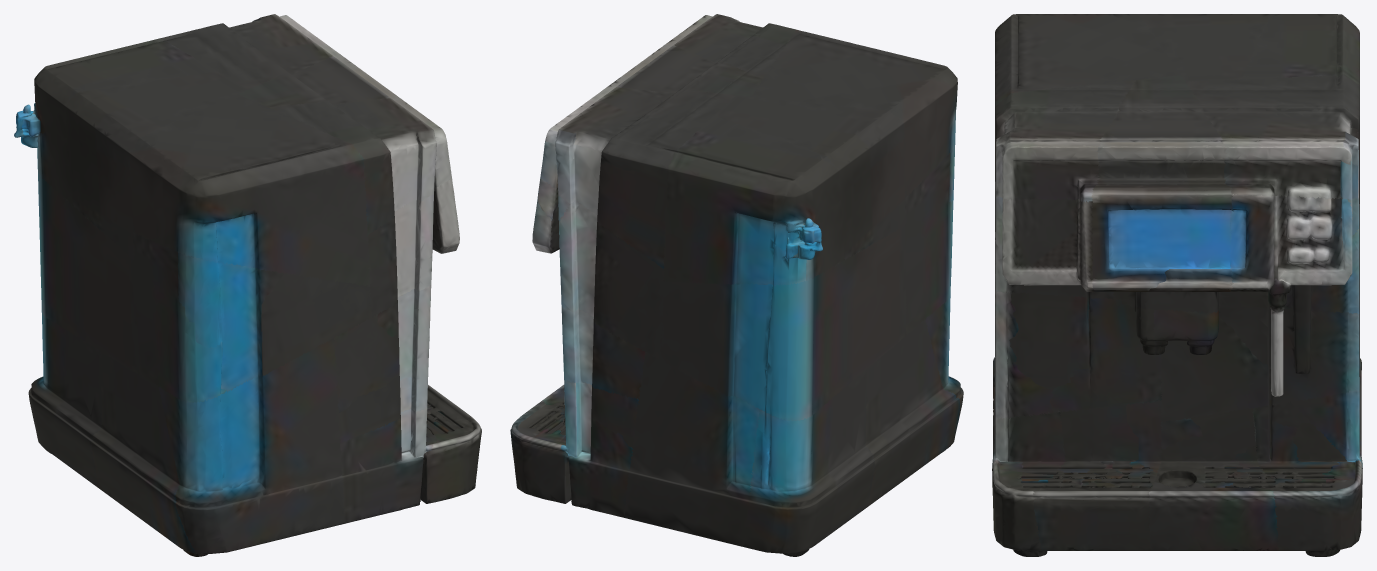
The model's file is coffee_machine.glb.
The picture shows the model from 3 angles, left to right: view 1: azimuth 30°, elevation 25°; view 2: azimuth 150°, elevation 25°; view 3: azimuth 270°, elevation 25°; orthographic projection. The views are drawn at different scales.
Parts seen in each view (by area): view 1: tripo_node_c7f68158-7842-426a-a827-70764c026831; view 2: tripo_node_c7f68158-7842-426a-a827-70764c026831; view 3: tripo_node_c7f68158-7842-426a-a827-70764c026831.
Part boxes in pixels (x1=…): tripo_node_c7f68158-7842-426a-a827-70764c026831: x1=14, y1=14, x2=481, y2=556; tripo_node_c7f68158-7842-426a-a827-70764c026831: x1=510, y1=14, x2=963, y2=556; tripo_node_c7f68158-7842-426a-a827-70764c026831: x1=992, y1=14, x2=1362, y2=556.
Bounding box in the file's own units: 0.8734 × 0.9999 × 0.8393.
1 material, 1 textured.
